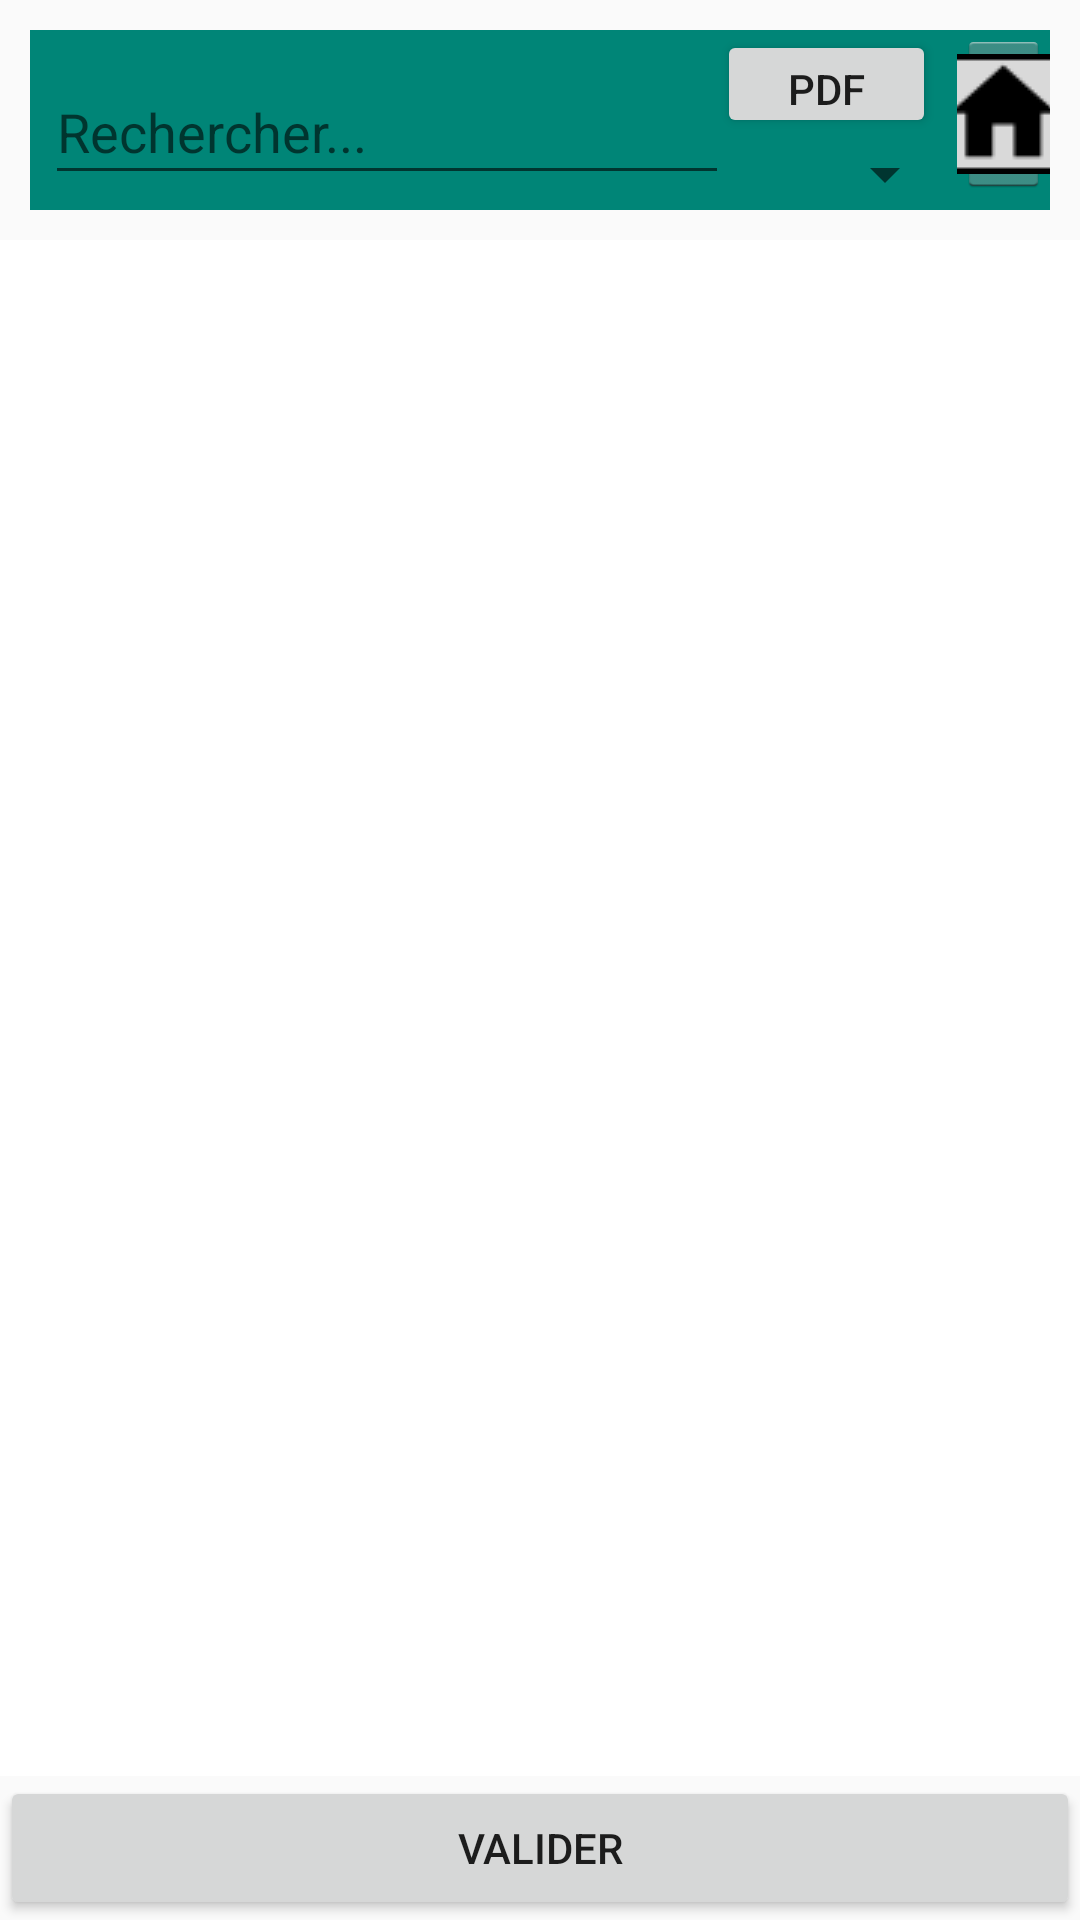

Icon click points for this 1080px x 1920px phone screenshot, format point (x, y):
home: point (1003, 114)
